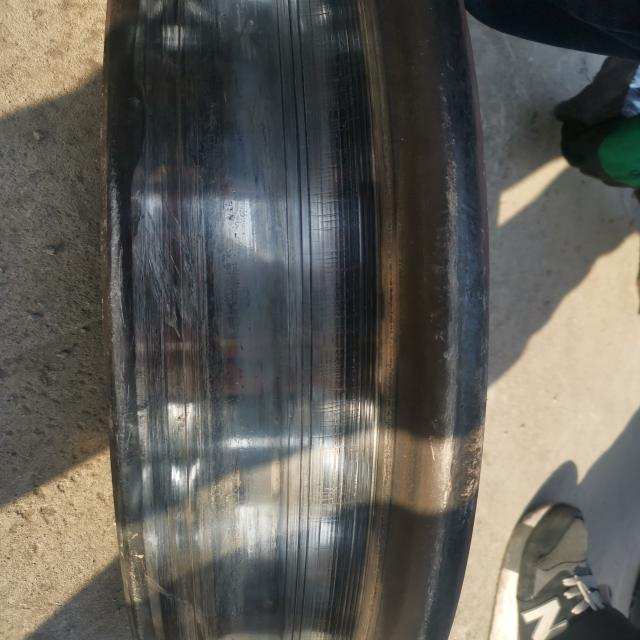Brake_Thermal_Cracks: (311, 483, 364, 508), (317, 361, 358, 384), (310, 512, 360, 530), (301, 543, 361, 558), (312, 401, 364, 416), (298, 252, 357, 263), (319, 74, 363, 87), (305, 133, 353, 144), (310, 282, 358, 293), (318, 418, 366, 429), (315, 266, 359, 277), (311, 187, 351, 199), (309, 433, 352, 443), (317, 106, 359, 116), (318, 119, 359, 129), (319, 92, 359, 102), (316, 347, 356, 356), (309, 226, 359, 233), (311, 212, 353, 220), (318, 388, 369, 394), (309, 152, 347, 160), (309, 164, 345, 172), (310, 176, 346, 184), (309, 202, 354, 207)
